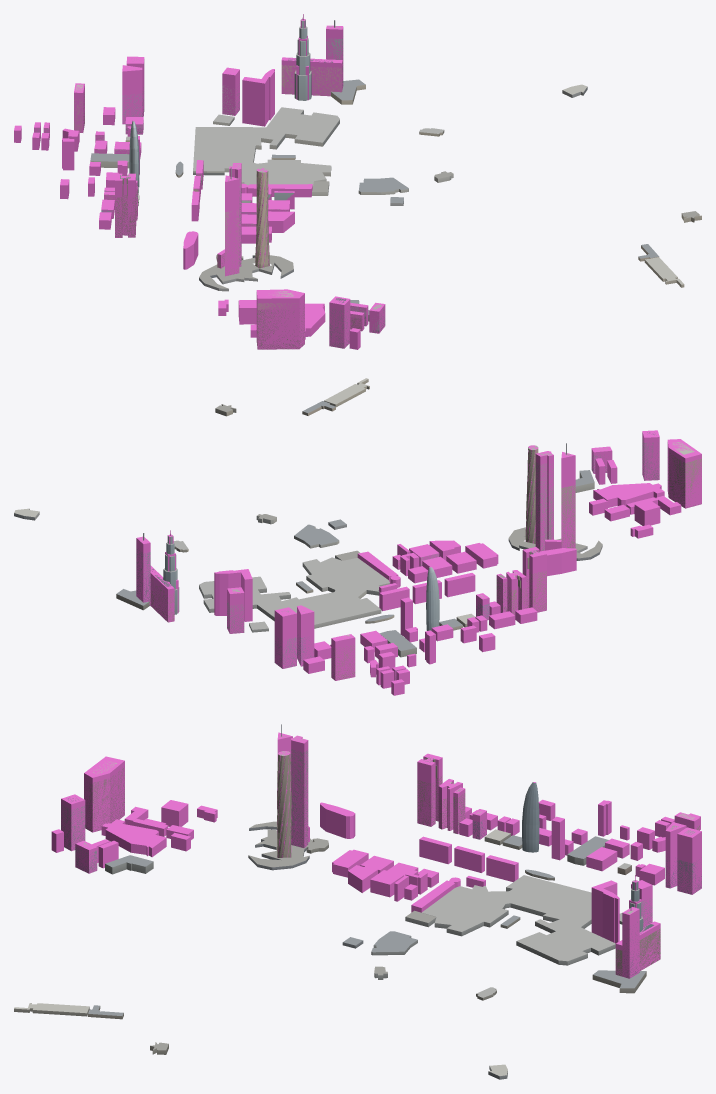
The model's file is bld_13_10.fbx.
The picture shows the model from 3 angles, top to bottom: view 1: azimuth 30°, elevation 25°; view 2: azimuth 150°, elevation 25°; view 3: azimuth 270°, elevation 25°; orthographic projection. The views are drawn at different scales.
Visible parts, largest first — view 1: bld_13_10_COL, bld_13_10_LOD0; view 2: bld_13_10_COL, bld_13_10_LOD0; view 3: bld_13_10_COL, bld_13_10_LOD0.
Boxes of the visible parts, box(x1,y1,x2,y2) form: bld_13_10_COL: box(14, 14, 385, 349); bld_13_10_LOD0: box(34, 19, 701, 349); bld_13_10_COL: box(136, 430, 701, 695); bld_13_10_LOD0: box(14, 378, 701, 680); bld_13_10_COL: box(51, 732, 701, 978); bld_13_10_LOD0: box(14, 724, 701, 1079).
Size of what is drawn, in the model's own units: 1970 by 396 by 2132.
